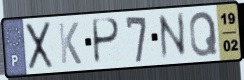7: (124, 15, 148, 64)
K: (57, 21, 84, 66)
N: (156, 10, 189, 63)
P: (92, 16, 122, 66)
Q: (188, 9, 220, 59)
X: (24, 19, 55, 72)
